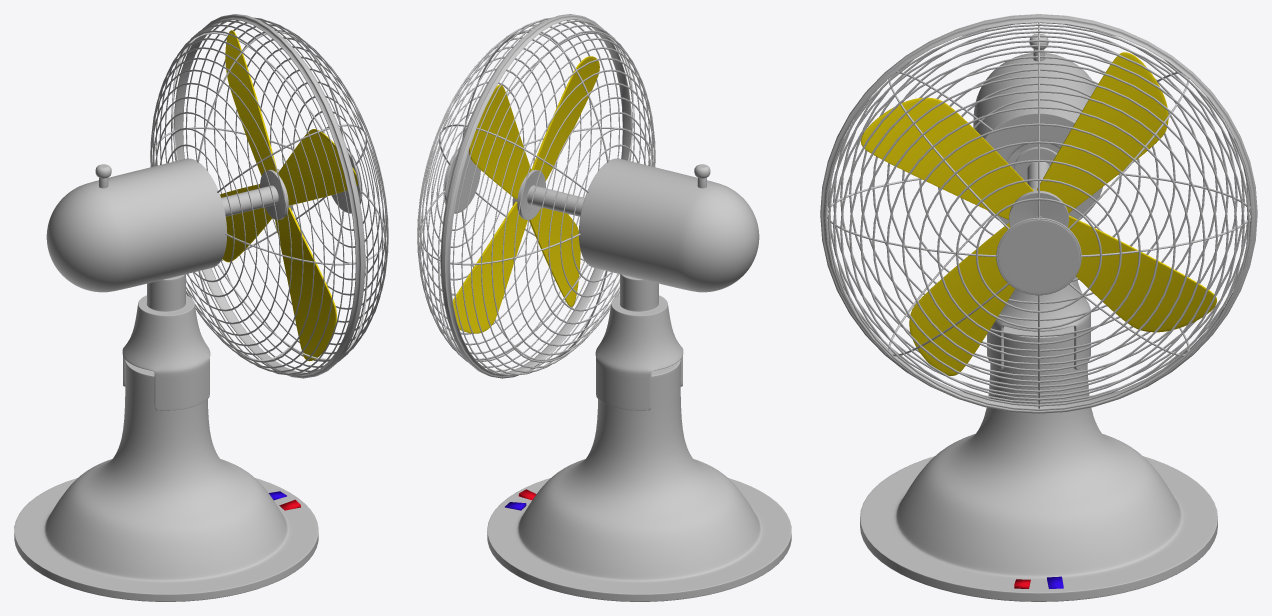
The model's file is models.glb.
The picture shows the model from 3 angles, left to right: view 1: azimuth 30°, elevation 25°; view 2: azimuth 150°, elevation 25°; view 3: azimuth 270°, elevation 25°; orthographic projection. The views are drawn at different scales.
Visible parts, largest first — view 1: bj.004, bj.001, bj.003; view 2: bj.004, bj.001, bj.003; view 3: bj.004, bj.001, bj.003.
Boxes of the visible parts, left/top/right/bottom form: bj.004: left=46, top=14, right=388, bottom=410; bj.001: left=14, top=360, right=318, bottom=601; bj.003: left=220, top=30, right=358, bottom=361; bj.004: left=417, top=14, right=759, bottom=410; bj.001: left=487, top=360, right=791, bottom=601; bj.003: left=452, top=56, right=599, bottom=333; bj.004: left=820, top=14, right=1257, bottom=413; bj.001: left=860, top=326, right=1217, bottom=601; bj.003: left=861, top=52, right=1216, bottom=375.
Size of the model in its own units: 0.7648 by 1.14 by 0.7937.
